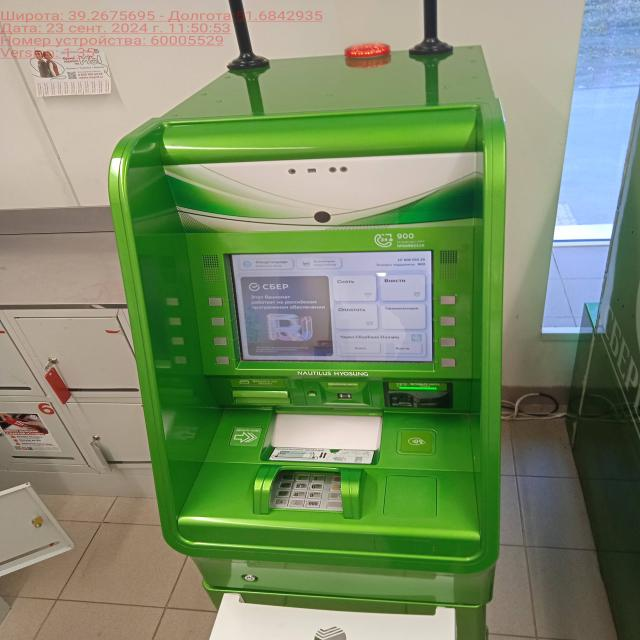bank: (104, 41, 517, 640)
